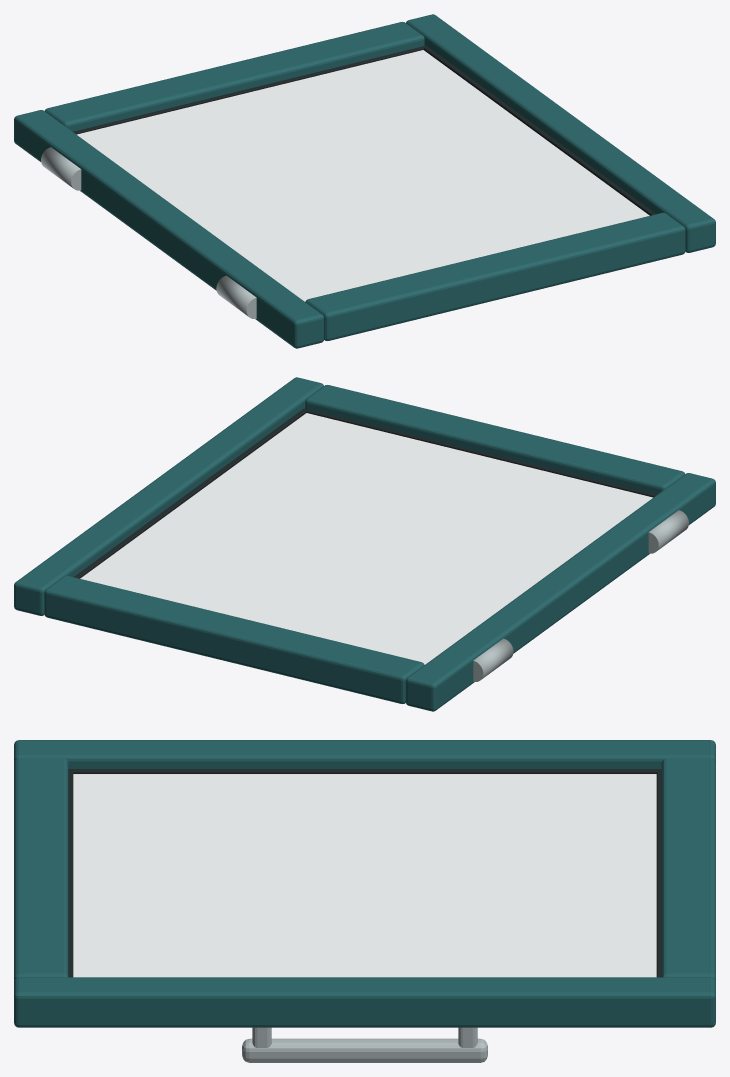
Rendered from refrigerator_door.glb.
The picture shows the model from 3 angles, top to bottom: view 1: azimuth 30°, elevation 25°; view 2: azimuth 150°, elevation 25°; view 3: azimuth 270°, elevation 25°; orthographic projection. The views are drawn at different scales.
Visible parts, largest first — view 1: Refrigerator door glass, Refrigerator door top, Refrigerator door left, Refrigerator door right, Refrigerator door bottom, Refrigerator glazing gasket.001, Refrigerator glazing gasket.002, Refrigerator door hinge, Refrigerator door hinge.001; view 2: Refrigerator door glass, Refrigerator door bottom, Refrigerator door left, Refrigerator door right, Refrigerator door top, Refrigerator glazing gasket.001, Refrigerator glazing gasket.003, Refrigerator door hinge.001, Refrigerator door hinge; view 3: Refrigerator door glass, Refrigerator door right, Refrigerator door left, Refrigerator door top, Refrigerator door bottom, Refrigerator handle, Refrigerator glazing gasket, Refrigerator glazing gasket.003, Refrigerator glazing gasket.002.
Boxes of the visible parts, bbox=[...] form: Refrigerator door glass: bbox=[77, 50, 649, 301]; Refrigerator door top: bbox=[305, 212, 685, 340]; Refrigerator door left: bbox=[14, 110, 324, 348]; Refrigerator door right: bbox=[406, 14, 715, 252]; Refrigerator door bottom: bbox=[44, 22, 424, 131]; Refrigerator glazing gasket.001: bbox=[423, 45, 656, 215]; Refrigerator glazing gasket.002: bbox=[73, 46, 425, 134]; Refrigerator door hinge: bbox=[41, 147, 81, 190]; Refrigerator door hinge.001: bbox=[216, 275, 256, 318]; Refrigerator door glass: bbox=[80, 413, 652, 664]; Refrigerator door bottom: bbox=[44, 575, 424, 703]; Refrigerator door left: bbox=[405, 473, 715, 711]; Refrigerator door right: bbox=[14, 377, 323, 615]; Refrigerator door top: bbox=[305, 385, 685, 494]; Refrigerator glazing gasket.001: bbox=[73, 408, 306, 578]; Refrigerator glazing gasket.003: bbox=[305, 409, 656, 497]; Refrigerator door hinge.001: bbox=[648, 510, 688, 553]; Refrigerator door hinge: bbox=[473, 638, 513, 681]; Refrigerator door glass: bbox=[73, 774, 656, 977]; Refrigerator door right: bbox=[14, 977, 715, 1027]; Refrigerator door left: bbox=[14, 740, 715, 768]; Refrigerator door top: bbox=[14, 758, 68, 981]; Refrigerator door bottom: bbox=[661, 758, 715, 981]; Refrigerator handle: bbox=[242, 1038, 487, 1062]; Refrigerator glazing gasket: bbox=[68, 769, 661, 773]; Refrigerator glazing gasket.003: bbox=[68, 770, 73, 977]; Refrigerator glazing gasket.002: bbox=[656, 770, 661, 977].
Bounding box in the file's own units: 0.512 × 0.069 × 0.58.
